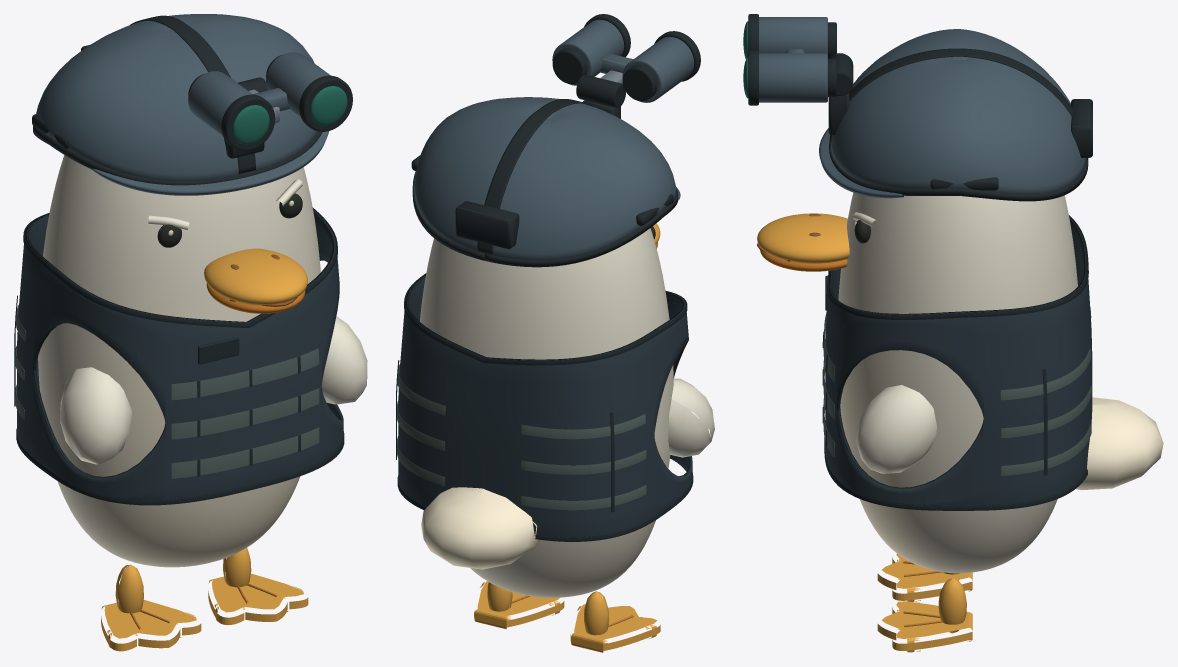
Rendered from goose-headwear-nvg-character.glb.
3 views of the same model, side by side, from view 1: azimuth 30°, elevation 25°; view 2: azimuth 150°, elevation 25°; view 3: azimuth 270°, elevation 25° (orthographic). The views are drawn at different scales.
Parts seen in each view (by area): view 1: goose_vest_refined_mesh, goose_torso_mesh, goose_headwear_nvg_mesh, goose_leftArm_mesh, goose_beak_mesh, goose_leftFoot_mesh, goose_rightFoot_mesh, goose_rightArm_mesh; view 2: goose_vest_refined_mesh, goose_headwear_nvg_mesh, goose_torso_mesh, goose_tail_mesh, goose_leftFoot_mesh, goose_leftArm_mesh, goose_rightFoot_mesh; view 3: goose_headwear_nvg_mesh, goose_torso_mesh, goose_vest_refined_mesh, goose_rightArm_mesh, goose_tail_mesh, goose_beak_mesh, goose_rightFoot_mesh, goose_leftFoot_mesh.
Part boxes in pixels (x1=…): goose_vest_refined_mesh: x1=14, y1=207, x2=344, y2=505; goose_torso_mesh: x1=38, y1=155, x2=320, y2=567; goose_headwear_nvg_mesh: x1=32, y1=14, x2=352, y2=195; goose_leftArm_mesh: x1=60, y1=367, x2=132, y2=464; goose_beak_mesh: x1=204, y1=248, x2=307, y2=313; goose_leftFoot_mesh: x1=101, y1=564, x2=201, y2=651; goose_rightFoot_mesh: x1=208, y1=548, x2=308, y2=625; goose_rightArm_mesh: x1=321, y1=316, x2=367, y2=404; goose_vest_refined_mesh: x1=396, y1=273, x2=693, y2=541; goose_headwear_nvg_mesh: x1=411, y1=14, x2=700, y2=267; goose_torso_mesh: x1=419, y1=228, x2=673, y2=597; goose_tail_mesh: x1=421, y1=487, x2=540, y2=569; goose_leftFoot_mesh: x1=570, y1=591, x2=660, y2=652; goose_leftArm_mesh: x1=668, y1=378, x2=714, y2=457; goose_rightFoot_mesh: x1=474, y1=581, x2=564, y2=629; goose_headwear_nvg_mesh: x1=743, y1=14, x2=1092, y2=201; goose_torso_mesh: x1=838, y1=192, x2=1077, y2=573; goose_vest_refined_mesh: x1=822, y1=215, x2=1092, y2=510; goose_rightArm_mesh: x1=855, y1=385, x2=936, y2=473; goose_tail_mesh: x1=1076, y1=397, x2=1163, y2=489; goose_beak_mesh: x1=757, y1=213, x2=849, y2=271; goose_rightFoot_mesh: x1=877, y1=578, x2=972, y2=652; goose_leftFoot_mesh: x1=877, y1=553, x2=972, y2=601.
Bounding box in the file's own units: 1.1 × 2.13 × 1.41.
